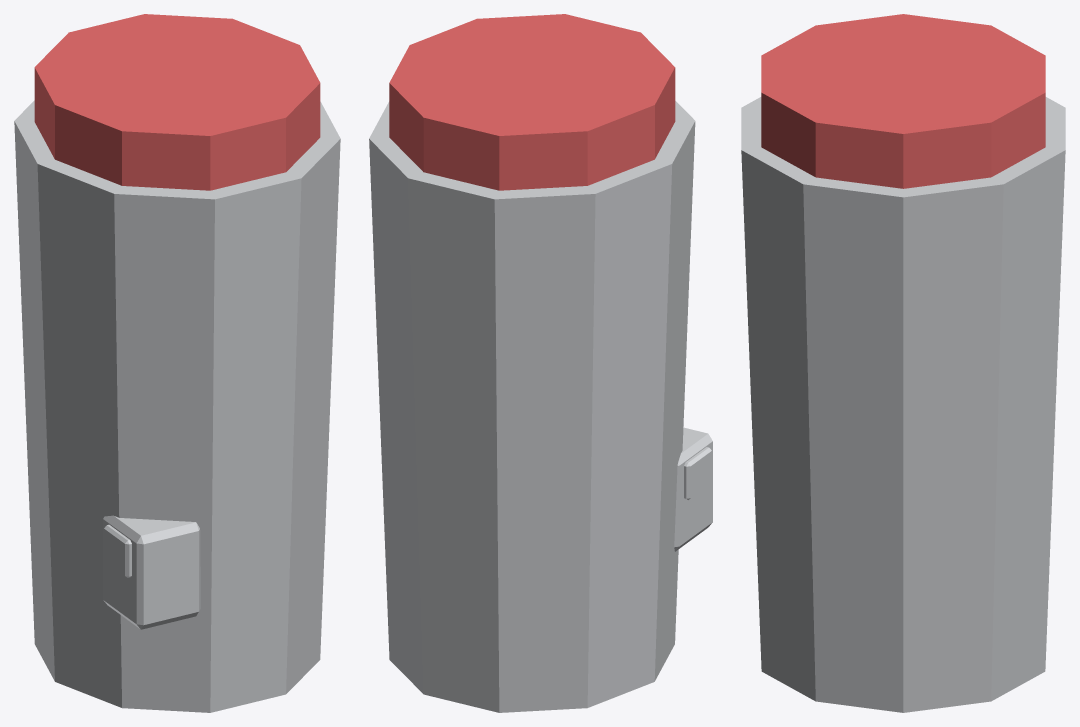
The model's file is b16_aluminum_soda_can.glb.
3 renders of one model, left to right at view 1: azimuth 30°, elevation 25°; view 2: azimuth 150°, elevation 25°; view 3: azimuth 270°, elevation 25°, orthographic.
Visible parts, largest first — view 1: b16_aluminum_soda_can; view 2: b16_aluminum_soda_can; view 3: b16_aluminum_soda_can.
Part boxes in pixels (x1,y1,x2,y2): b16_aluminum_soda_can: (14,14,340,712); b16_aluminum_soda_can: (369,14,712,712); b16_aluminum_soda_can: (741,14,1065,712).
Size of the model in its own units: 0.066 by 0.13 by 0.066.
